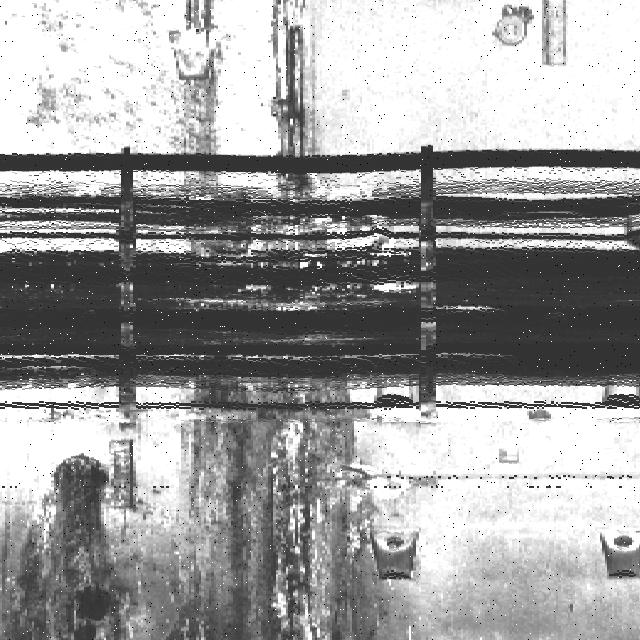leakage: (0, 392, 378, 640), (171, 1, 227, 219), (268, 1, 323, 213)
